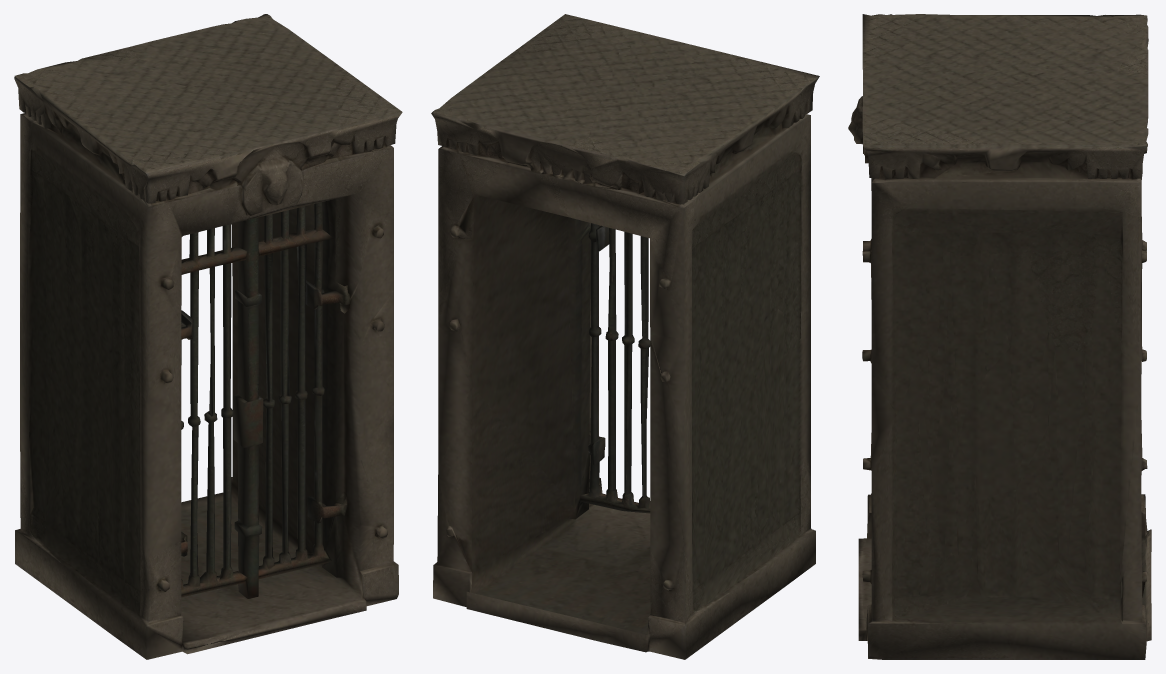
File: gate.glb
The picture shows the model from 3 angles, left to right: view 1: azimuth 30°, elevation 25°; view 2: azimuth 150°, elevation 25°; view 3: azimuth 270°, elevation 25°; orthographic projection. The views are drawn at different scales.
Size of the model in its own units: 1.04 by 1.9 by 1.01.
1 material, 1 textured.
